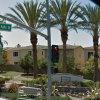Palm tree: (8, 1, 88, 69)
